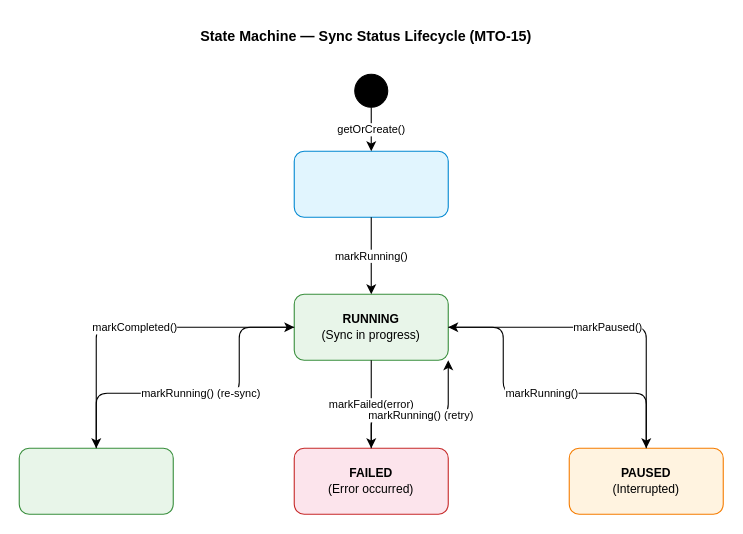
This 743x534 diagram has some shape labels left out. Each missing label, with the centre of its shape:
COMPLETED (Sync finished): the point at 95,480
IDLE (Initial state): the point at 370,183
